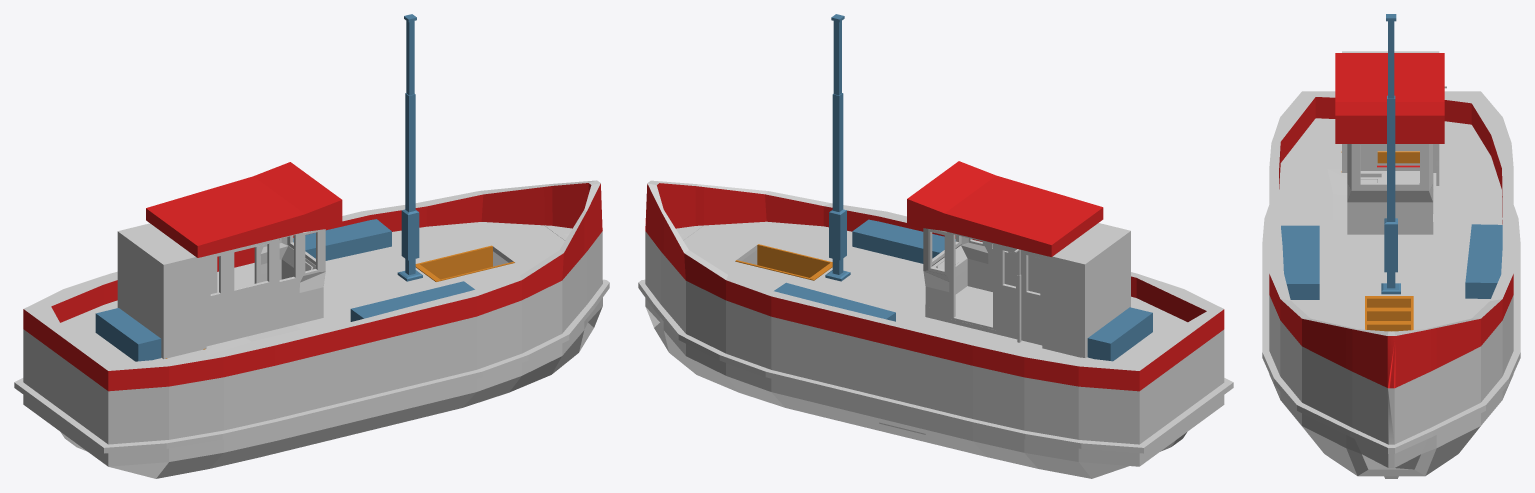
Rendered from Fiskerbåd_Færdig.fbx.
3 renders of one model, left to right at view 1: azimuth 30°, elevation 25°; view 2: azimuth 150°, elevation 25°; view 3: azimuth 270°, elevation 25°, orthographic. The views are drawn at different scales.
Visible parts, largest first — view 1: Skip_1; view 2: Skip_1; view 3: Skip_1.
Boxes of the visible parts, x1,y1,x2,y2 form: Skip_1: (14,14,609,478); Skip_1: (638,14,1233,478); Skip_1: (1262,14,1520,478).
Bounding box in the file's own units: 1223 × 793 × 473.
